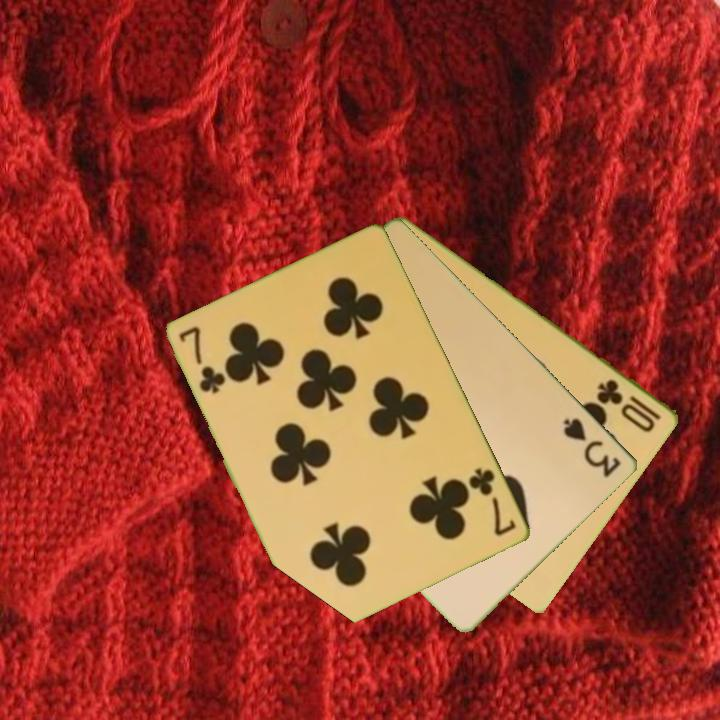10c: (593, 375, 665, 436)
3s: (560, 414, 624, 481)
7c: (465, 464, 520, 540), (175, 323, 227, 398)
